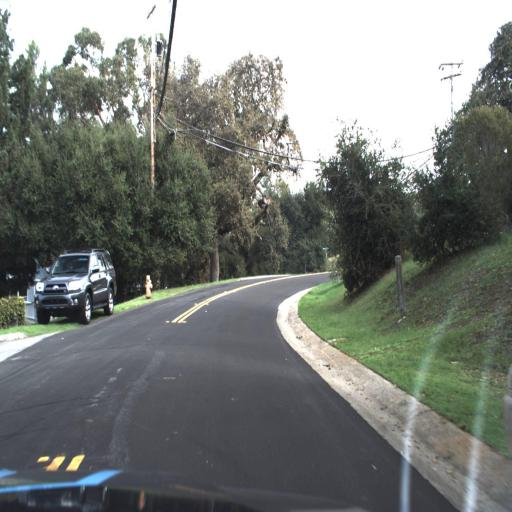car: (23, 228, 124, 334)
